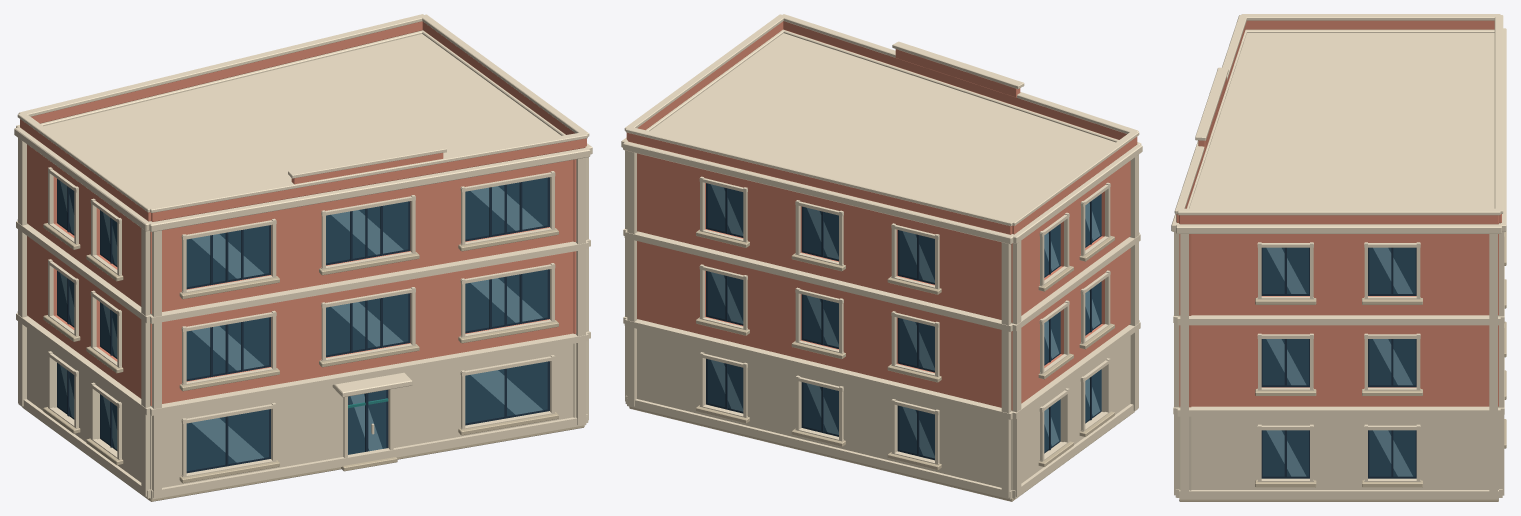
File: wedge_office.glb
The picture shows the model from 3 angles, left to right: view 1: azimuth 30°, elevation 25°; view 2: azimuth 150°, elevation 25°; view 3: azimuth 270°, elevation 25°; orthographic projection. The views are drawn at different scales.
Parts seen in each view (by area): view 1: WedgeOffice_StaticMesh; view 2: WedgeOffice_StaticMesh; view 3: WedgeOffice_StaticMesh.
Boxes of the visible parts, bbox=[...] form: WedgeOffice_StaticMesh: bbox=[14, 14, 592, 501]; WedgeOffice_StaticMesh: bbox=[621, 14, 1142, 501]; WedgeOffice_StaticMesh: bbox=[1171, 14, 1506, 501].
Bounding box in the file's own units: 14.87 × 10.44 × 10.48.
